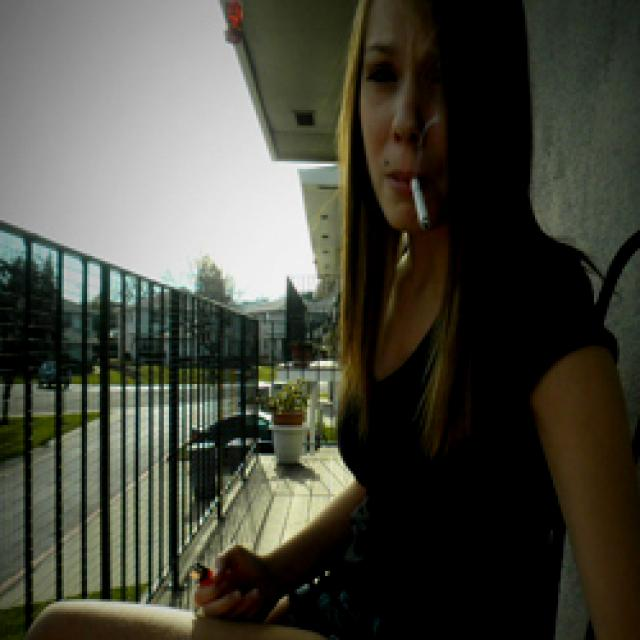Smooking: (406, 171, 426, 236)
